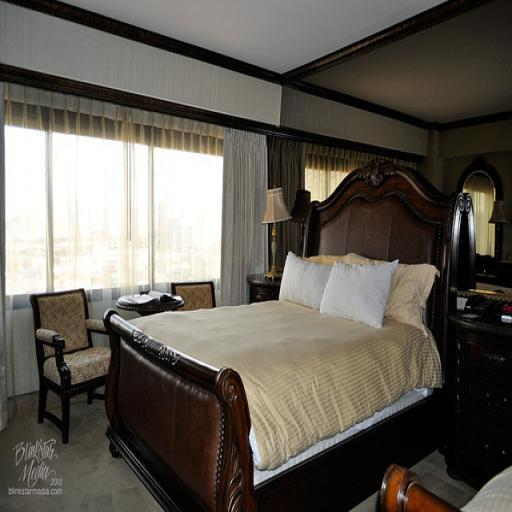bed: (95, 118, 465, 490)
